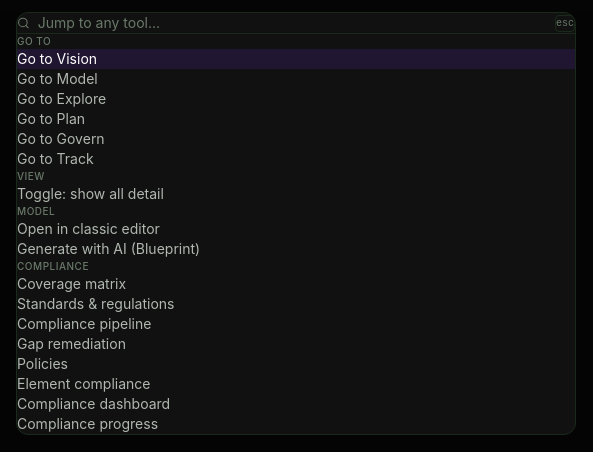
Scenario: CommandMenu (THE-493) › open: search input has focus; typing filters the list
This screenshot has width=593, height=452.
In the dropdown: (292, 23) [38,13,547,33], type "matrix"
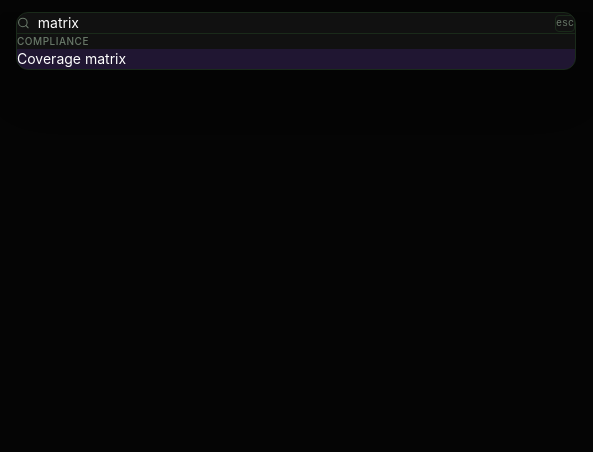
Expected: the option "Coverage matrix" is shown, [17,49,575,69]
Result: the option "Go to Vision" is gone
